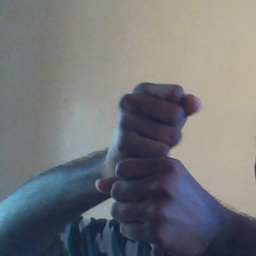G: (98, 73, 208, 245)
